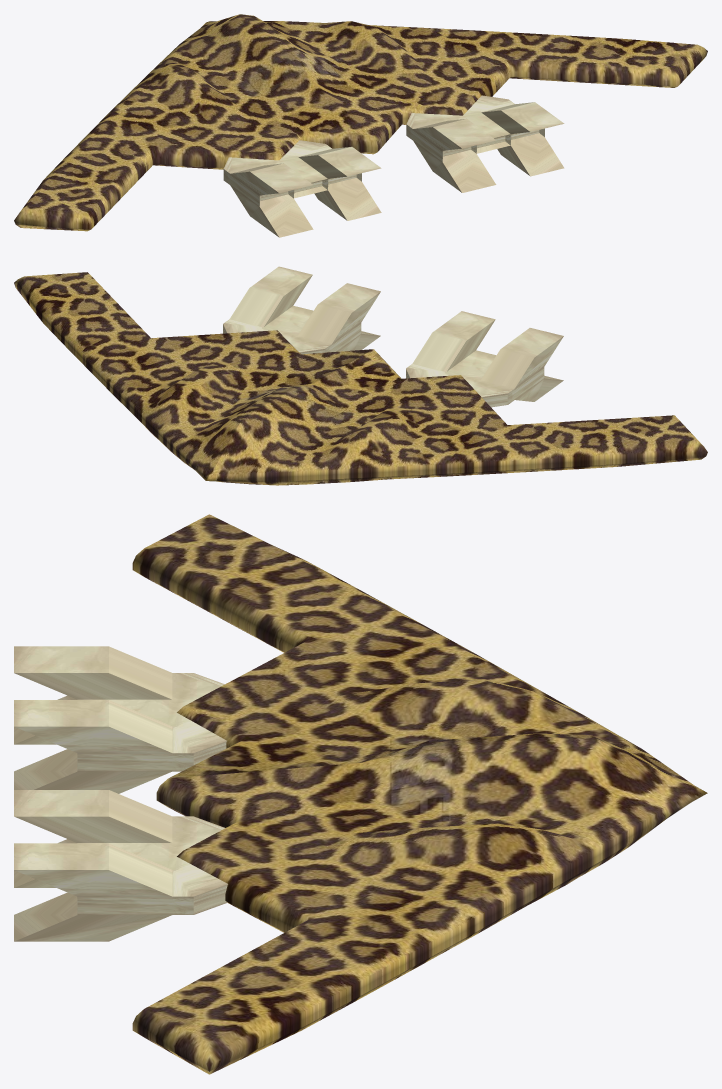
3 renders of one model, top to bottom at view 1: azimuth 30°, elevation 25°; view 2: azimuth 150°, elevation 25°; view 3: azimuth 270°, elevation 25°, orthographic. The views are drawn at different scales.
Visible parts, largest first — view 1: B2, RRudder, LRudder; view 2: B2, LRudder, RRudder; view 3: B2, RRudder, LRudder.
Part boxes in pixels (bbox=[...]): B2: bbox=[14, 14, 707, 231]; RRudder: bbox=[406, 95, 564, 192]; LRudder: bbox=[223, 140, 381, 237]; B2: bbox=[14, 272, 707, 485]; LRudder: bbox=[406, 311, 563, 407]; RRudder: bbox=[223, 266, 380, 354]; B2: bbox=[132, 514, 707, 1074]; RRudder: bbox=[14, 790, 227, 941]; LRudder: bbox=[14, 646, 226, 793].
Size of the model in its own units: 237 by 18.62 by 128.
2 materials, 2 textured.
